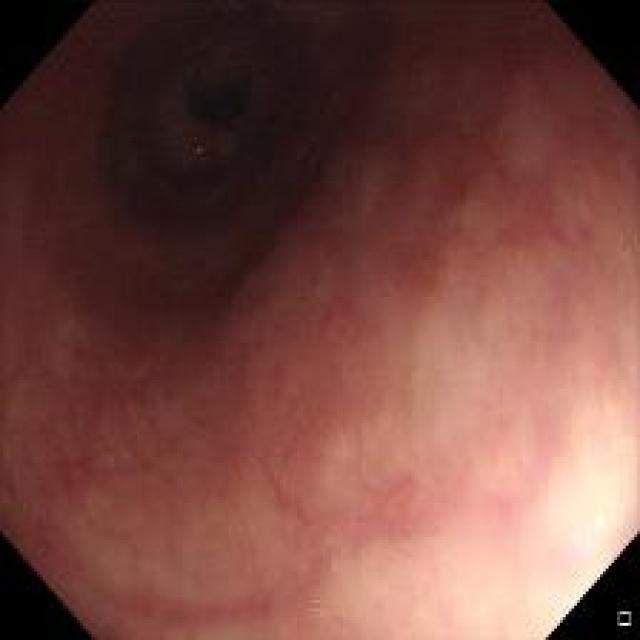bubbles: (309, 601, 326, 618)
contrast: (98, 11, 411, 322)
saturation: (520, 455, 631, 602)
